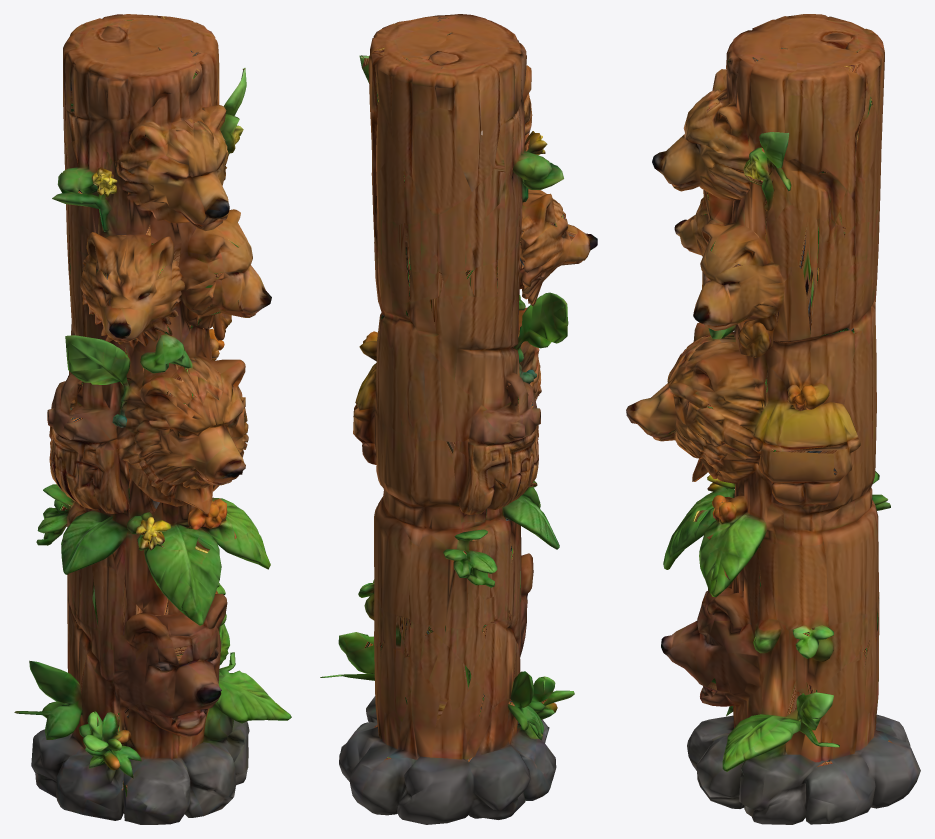
The model's file is statue-beast.glb.
The picture shows the model from 3 angles, left to right: view 1: azimuth 30°, elevation 25°; view 2: azimuth 150°, elevation 25°; view 3: azimuth 270°, elevation 25°; orthographic projection.
Visible parts, largest first — view 1: tripo_node_37681d22-f199-4d6a-a08f-946e8c6038aa; view 2: tripo_node_37681d22-f199-4d6a-a08f-946e8c6038aa; view 3: tripo_node_37681d22-f199-4d6a-a08f-946e8c6038aa.
Boxes of the visible parts, x1,y1,x2,y2 form: tripo_node_37681d22-f199-4d6a-a08f-946e8c6038aa: (14,14,291,824); tripo_node_37681d22-f199-4d6a-a08f-946e8c6038aa: (320,14,597,824); tripo_node_37681d22-f199-4d6a-a08f-946e8c6038aa: (626,14,920,824).
Size of the model in its own units: 0.3049 by 0.9797 by 0.3515.
Materials: 1 (1 with a texture image).
